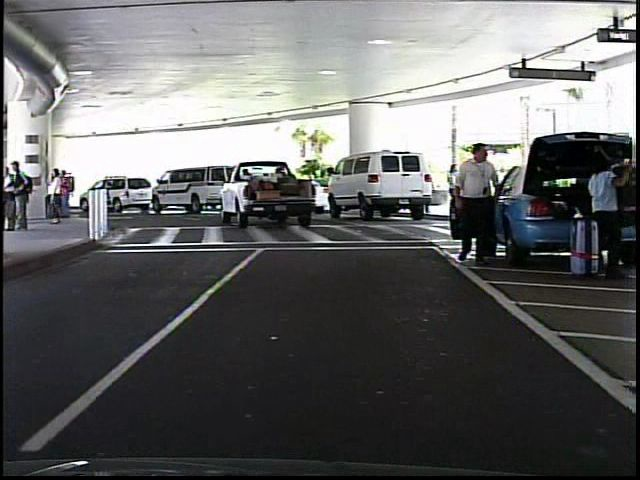person: (440, 139, 495, 270), (578, 153, 629, 278), (445, 159, 460, 186)
